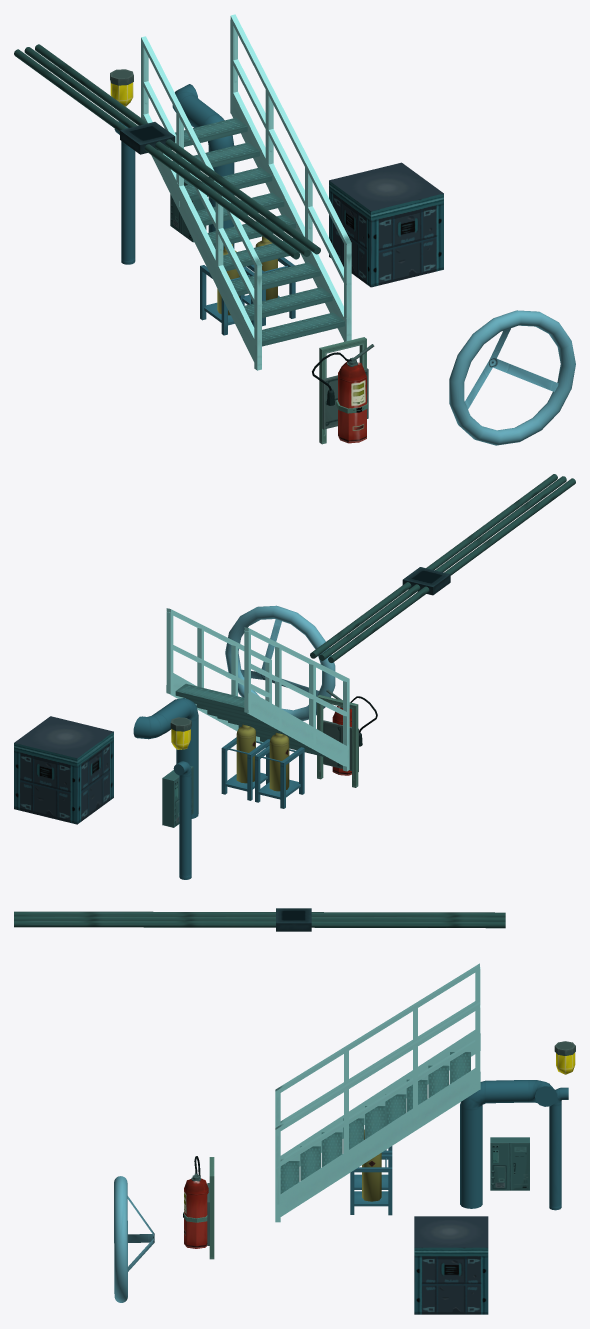
File: props.fbx
The picture shows the model from 3 angles, top to bottom: view 1: azimuth 30°, elevation 25°; view 2: azimuth 150°, elevation 25°; view 3: azimuth 270°, elevation 25°; orthographic projection. The views are drawn at different scales.
Visible parts, largest first — view 1: pCube40, pCube23, pCylinder20, pTorus2, pCube49, pCylinder6, pCylinder10, pCube41, pCube16, pCube26, pCube48, pCube24; view 2: pCube40, pCube23, pCylinder20, pTorus2, pCylinder6, pCube41, pCube49, pCube26, pCylinder10, pCube24, pCube16, pCube48; view 3: pCube40, pCylinder20, pCube23, pCylinder6, pCube49, pTorus2, pCube24, pCube26, pCylinder10, pCube16, pCube48.
Boxes of the visible parts, x1=… form: pCube40: x1=141, y1=14, x2=351, y2=370; pCube23: x1=329, y1=162, x2=443, y2=287; pCylinder20: x1=14, y1=44, x2=320, y2=259; pTorus2: x1=449, y1=310, x2=575, y2=445; pCube49: x1=312, y1=337, x2=374, y2=444; pCylinder6: x1=172, y1=84, x2=234, y2=249; pCylinder10: x1=114, y1=121, x2=135, y2=264; pCube41: x1=200, y1=244, x2=254, y2=335; pCube16: x1=120, y1=122, x2=175, y2=154; pCube26: x1=239, y1=236, x2=295, y2=326; pCube48: x1=110, y1=69, x2=133, y2=106; pCube24: x1=170, y1=179, x2=206, y2=242; pCube40: x1=166, y1=608, x2=349, y2=771; pCube23: x1=14, y1=716, x2=113, y2=824; pCylinder20: x1=310, y1=474, x2=575, y2=662; pTorus2: x1=225, y1=605, x2=335, y2=720; pCylinder6: x1=133, y1=698, x2=198, y2=818; pCube41: x1=255, y1=732, x2=304, y2=808; pCube49: x1=317, y1=689, x2=377, y2=787; pCube26: x1=221, y1=724, x2=269, y2=800; pCylinder10: x1=173, y1=761, x2=191, y2=879; pCube24: x1=162, y1=766, x2=193, y2=827; pCube16: x1=402, y1=567, x2=450, y2=595; pCube48: x1=170, y1=717, x2=191, y2=749; pCube40: x1=275, y1=963, x2=480, y2=1222; pCylinder20: x1=14, y1=911, x2=505, y2=928; pCube23: x1=414, y1=1216, x2=488, y2=1314; pCylinder6: x1=460, y1=1080, x2=557, y2=1208; pCube49: x1=183, y1=1156, x2=214, y2=1259; pTorus2: x1=114, y1=1176, x2=154, y2=1302; pCube24: x1=490, y1=1137, x2=529, y2=1190; pCube26: x1=350, y1=1153, x2=392, y2=1215; pCylinder10: x1=549, y1=1087, x2=568, y2=1210; pCube16: x1=276, y1=908, x2=311, y2=931; pCube48: x1=554, y1=1041, x2=575, y2=1074.
Bounding box in the file's own units: 15.66 × 12.01 × 22.64.
30 materials, 30 textured.
